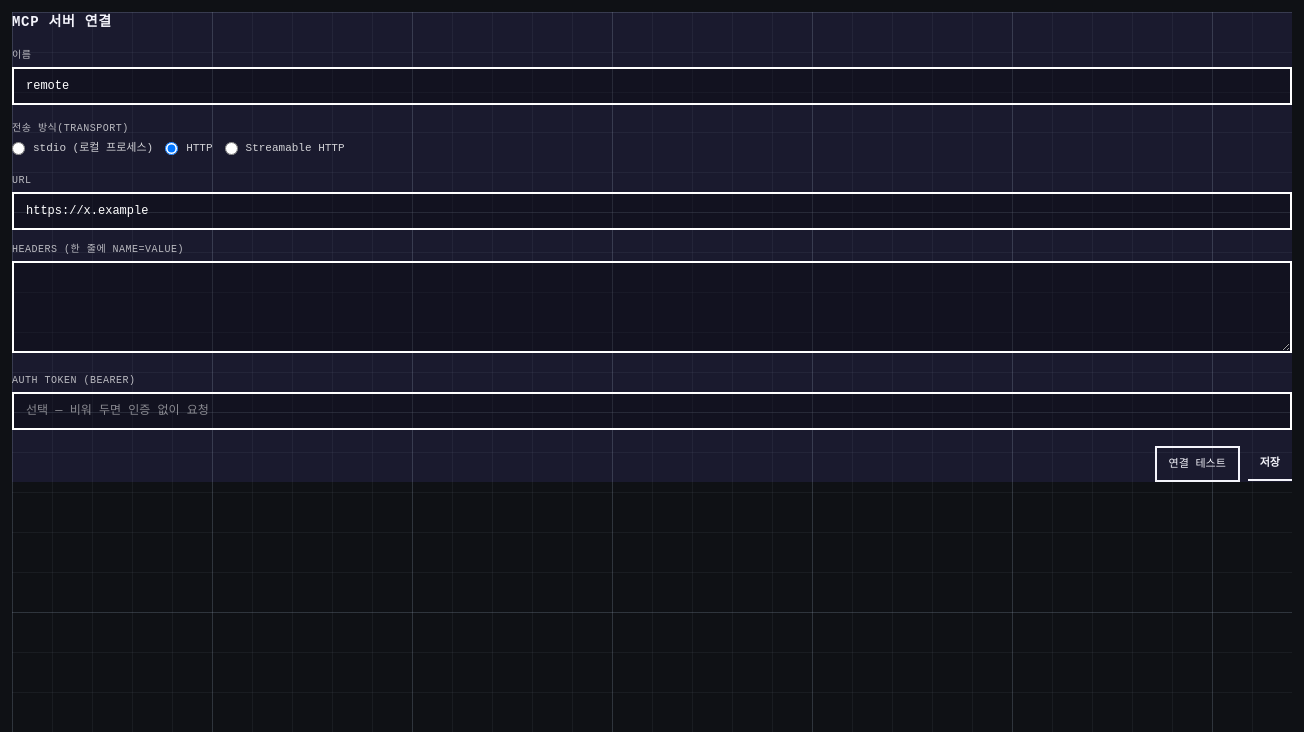
Test: U6. 연결 테스트 성공 — status 영역에 serverInfo 가 표시된다
Step 1. Click the button with aria-label "MCP 연결 테스트" → (1197, 464), box [1154,446,1240,482]
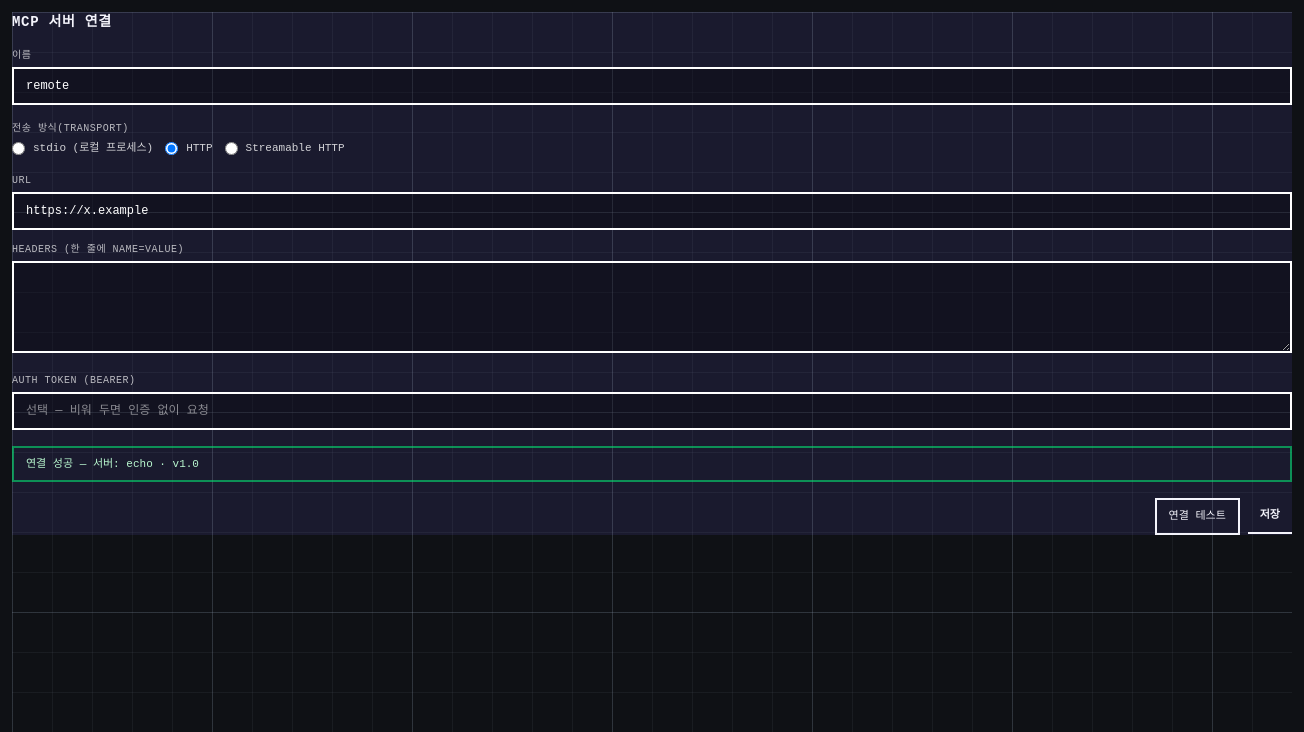
Result: the message "연결 성공 — 서버: echo · v1.0" is shown at [12,446,1292,482]
Result: the message with test id "mcp-test-outcome" shows "연결 성공" at [26,458,199,470]
Result: the message with test id "mcp-test-outcome" shows "echo" at [26,458,199,470]
